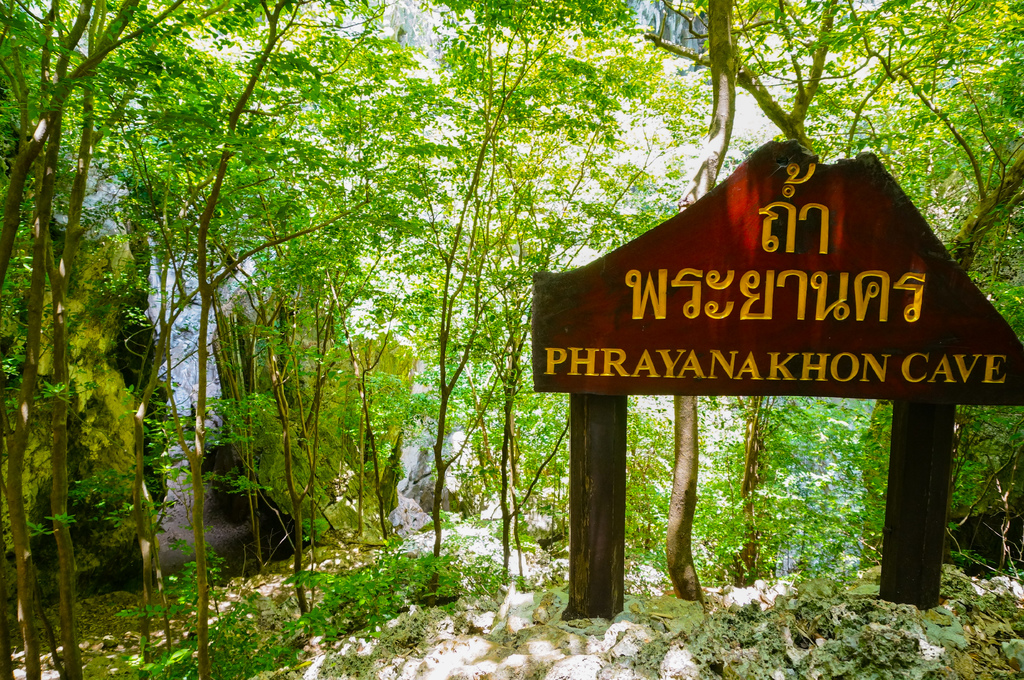Tree: (56, 1, 1024, 610)
